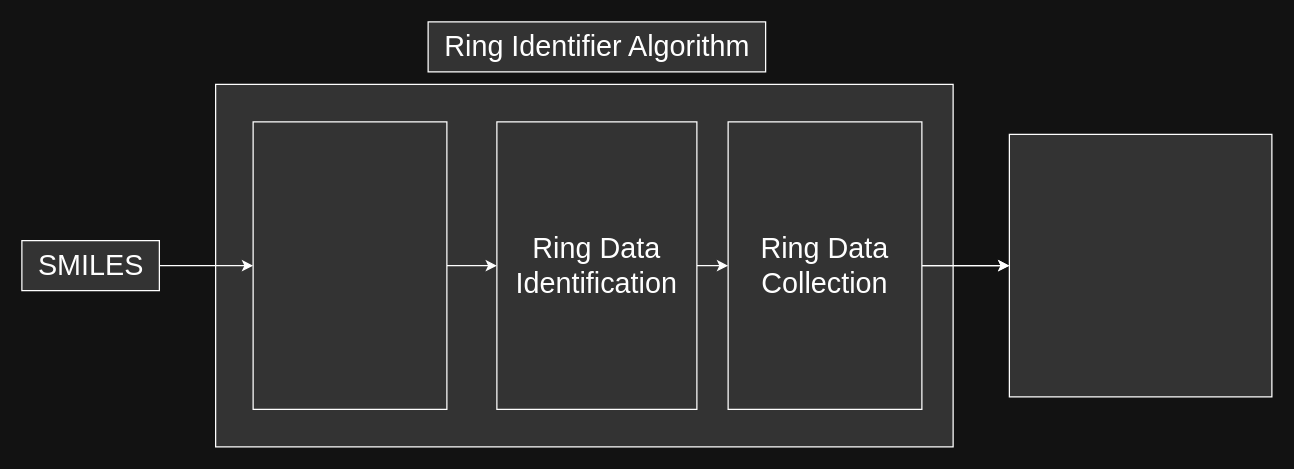
Image size: 1294x469. Some labels were removed from this diagram. The centre of each missing label's shape, as x and y in pixels:
Aromatic & Non-Aromatic Rings & Vertices: (x=1140, y=265)
Parenthetical Groups Preparation: (x=349, y=265)
